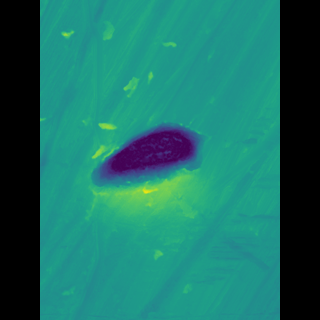Loch: (91, 0, 121, 320), (101, 114, 201, 202)
